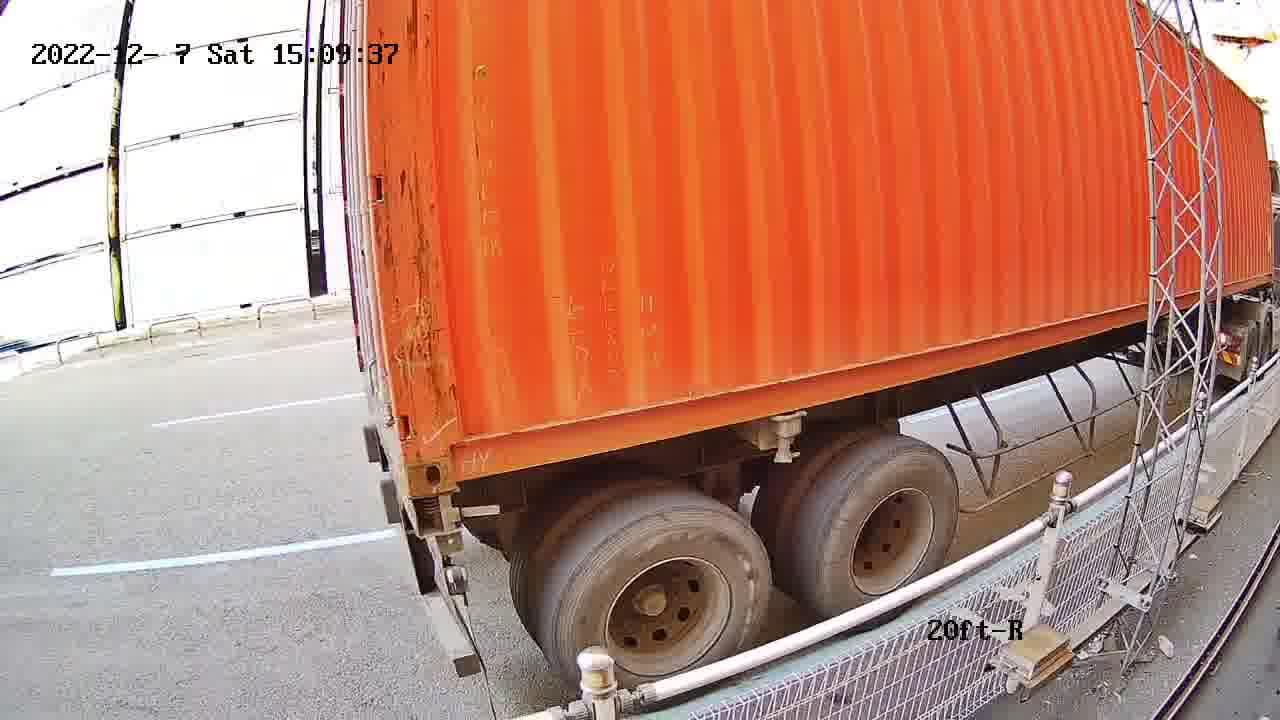Cone: (409, 490, 477, 552)
Hole_L: (394, 383, 505, 497)
Tire: (557, 508, 775, 682), (825, 447, 962, 608)
